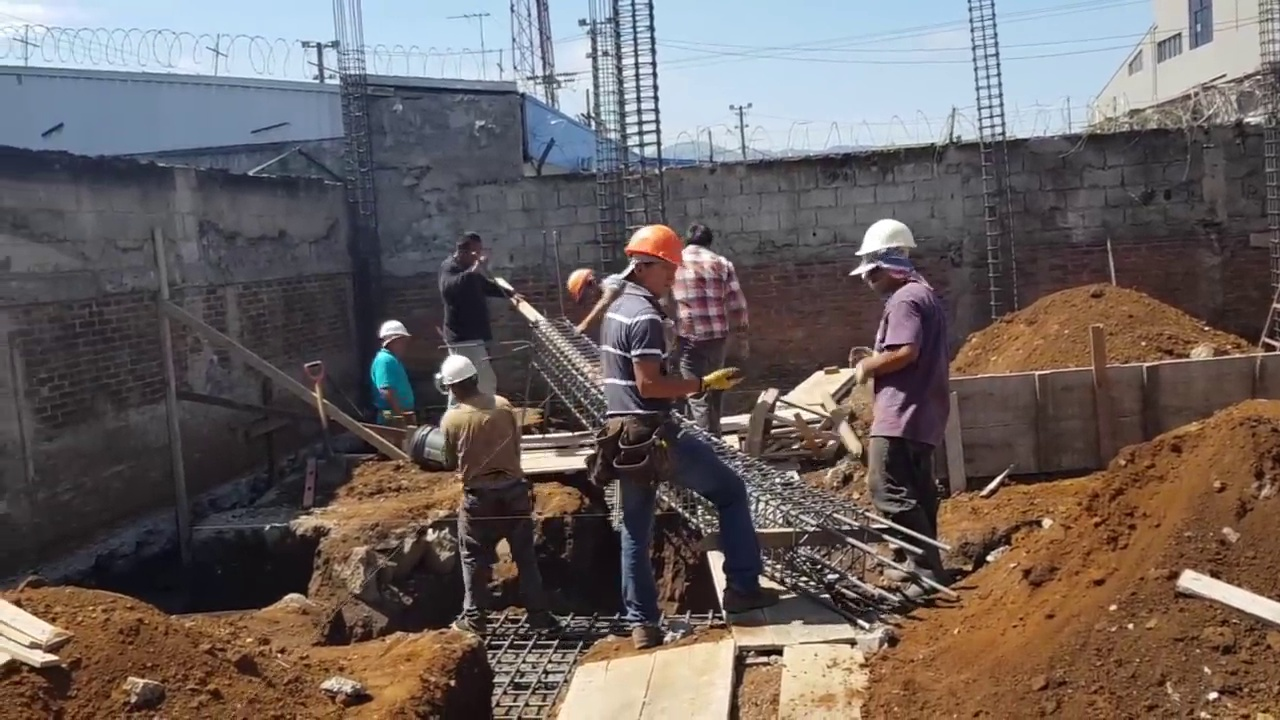helmet: (851, 214, 920, 259), (621, 226, 681, 268), (439, 352, 477, 387), (564, 266, 597, 304), (377, 320, 411, 345)
helmet-off: (451, 232, 482, 269), (684, 225, 713, 250)
helmet-on: (846, 218, 921, 298), (621, 225, 681, 297), (434, 353, 484, 409), (564, 265, 609, 306), (378, 317, 411, 361)
person: (594, 226, 754, 663), (846, 214, 953, 622), (433, 353, 560, 638), (661, 227, 749, 436), (439, 233, 521, 401), (366, 317, 416, 427)
